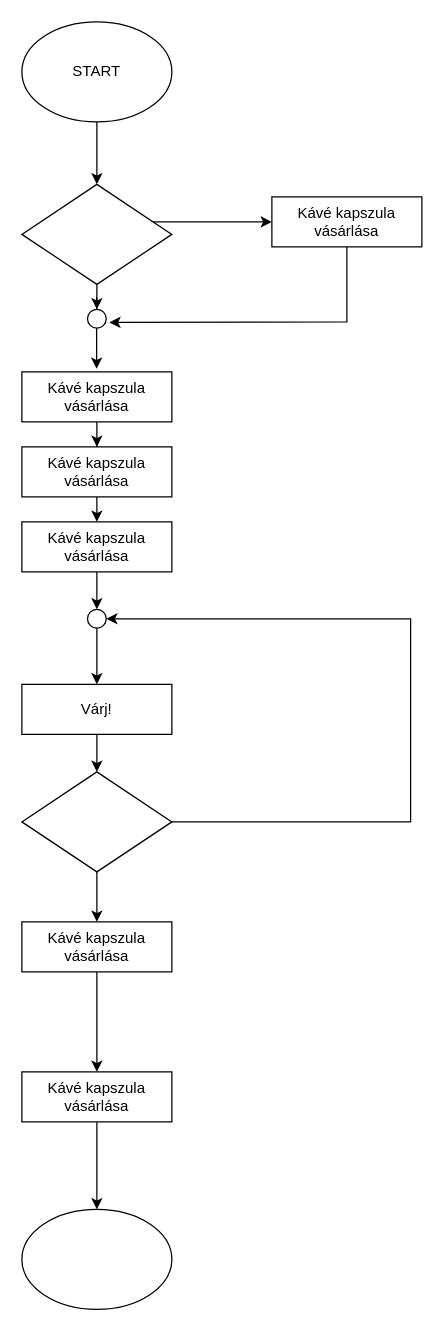
Some shapes in this 444 by 1331 pixel diagram are drawn without their labels. Each missing label, with the box of its shape:
Elkészült a kávé?: (21, 771, 172, 872)
STOP: (21, 1208, 172, 1309)
Van-e kávé kapszula?: (21, 183, 172, 284)
